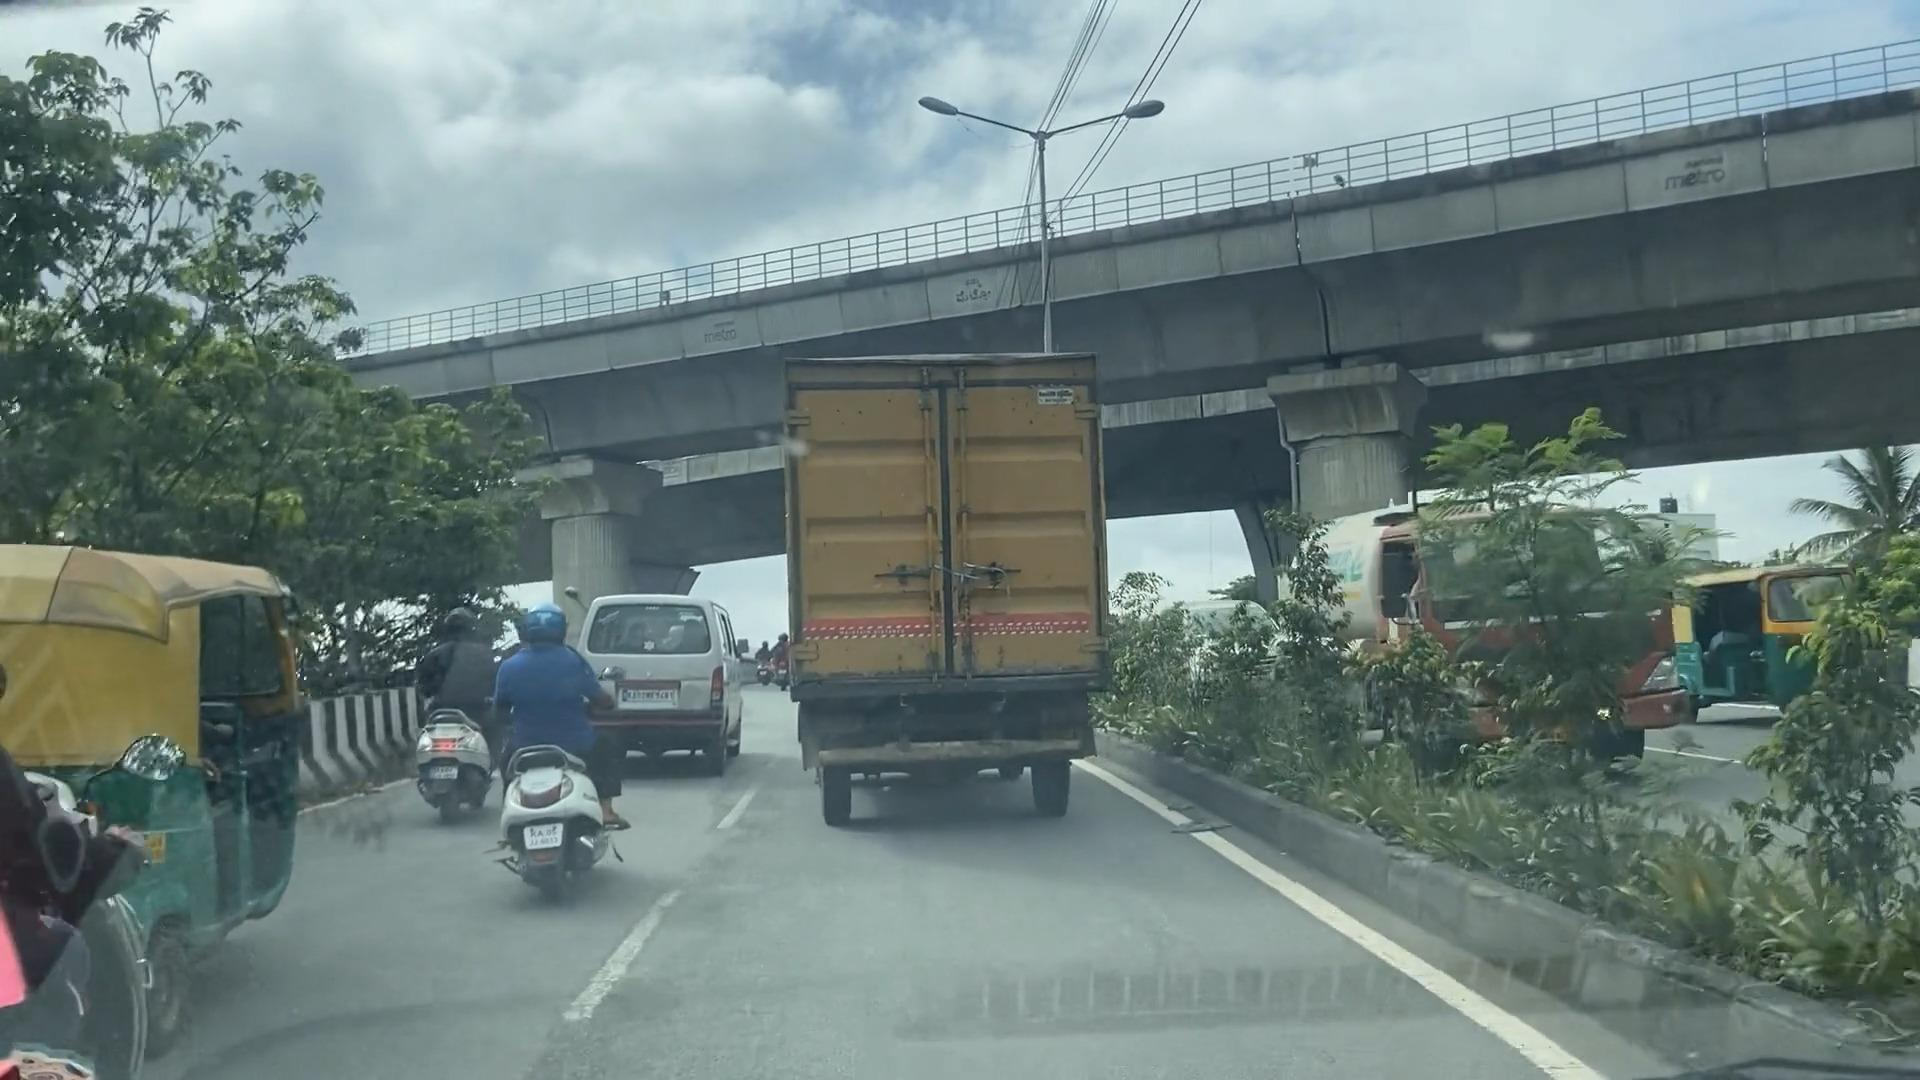LMV: (504, 593, 600, 887), (800, 367, 800, 367)
